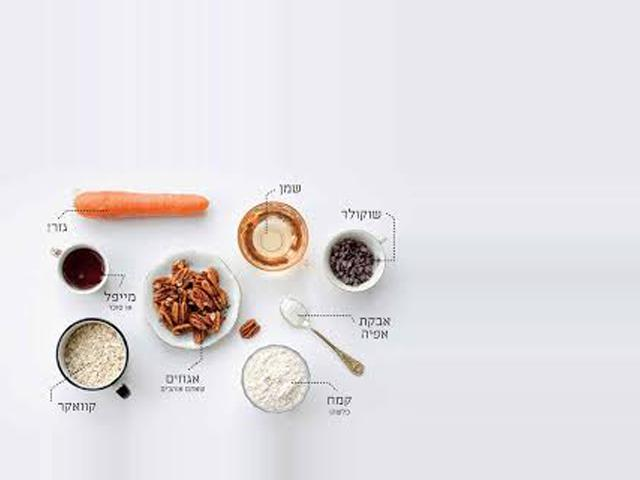carrot: (61, 184, 221, 234)
